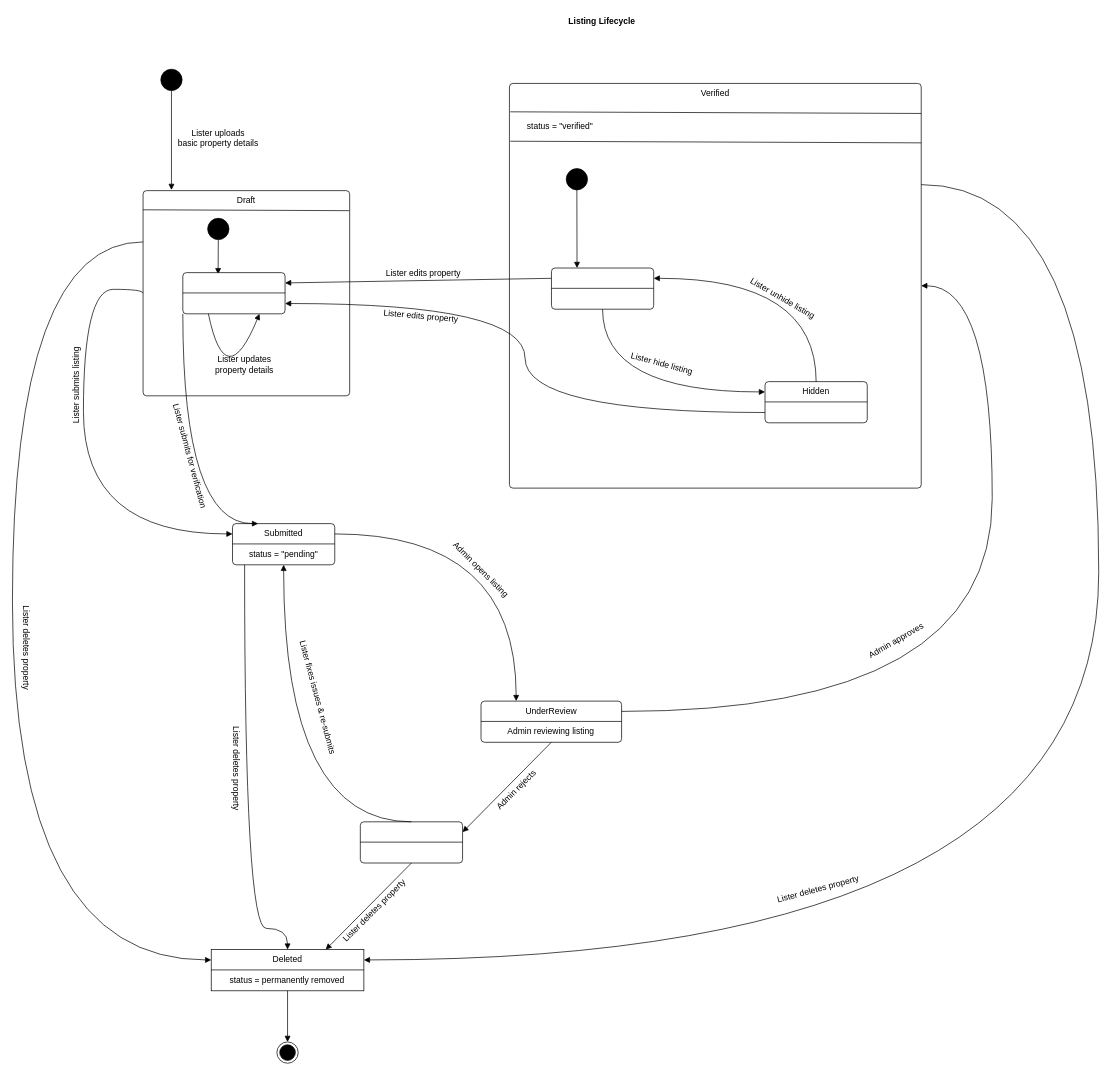
Image size: 1111x1076. Some labels were removed from this diagram. Each missing label, with the centre of its shape:
"Editing" belongs at (x=233, y=293).
"Rejected" belongs at (x=411, y=842).
"Visible" belongs at (x=602, y=288).
